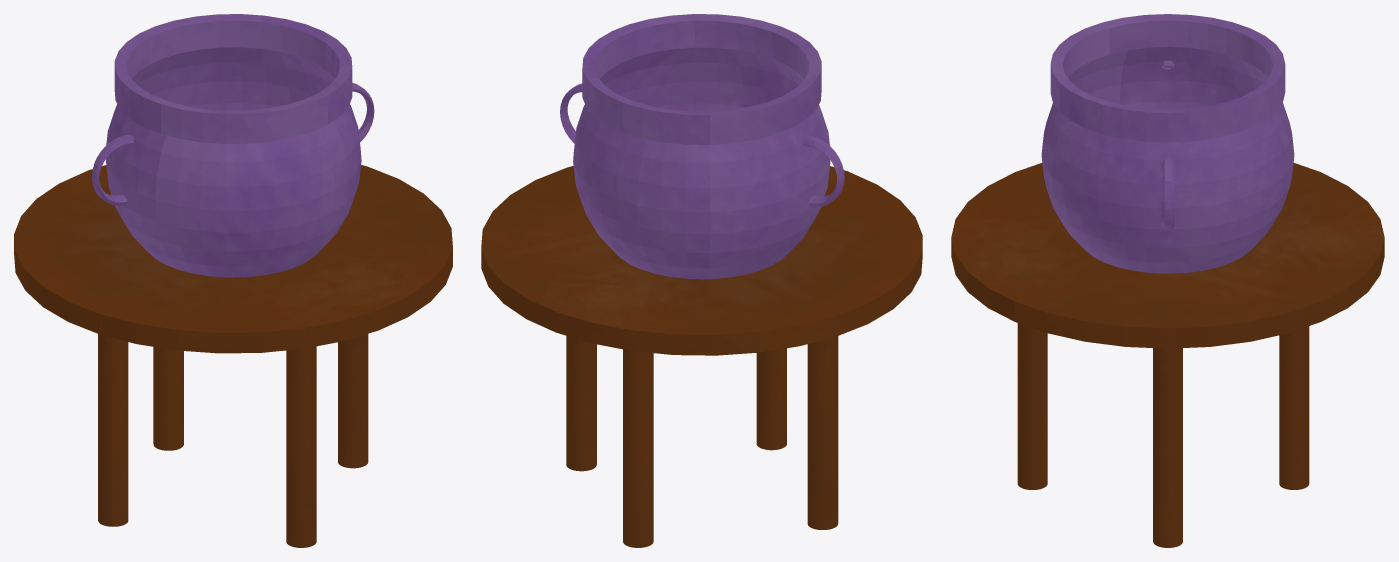
The model's file is KualiKecil.glb.
3 views of the same model, side by side, from view 1: azimuth 30°, elevation 25°; view 2: azimuth 150°, elevation 25°; view 3: azimuth 270°, elevation 25° (orthographic). The views are drawn at different scales.
Visible parts, largest first — view 1: Cylinder.004, Cylinder.001; view 2: Cylinder.004, Cylinder.001; view 3: Cylinder.004, Cylinder.001.
Boxes of the visible parts, bbox=[...] form: Cylinder.004: bbox=[14, 165, 452, 547]; Cylinder.001: bbox=[92, 14, 374, 277]; Cylinder.004: bbox=[481, 166, 922, 547]; Cylinder.001: bbox=[560, 14, 844, 279]; Cylinder.004: bbox=[951, 163, 1384, 547]; Cylinder.001: bbox=[1041, 14, 1294, 273].
Size of the model in its own units: 5.61 by 6.01 by 5.61.
Materials: 2 (2 with a texture image).
